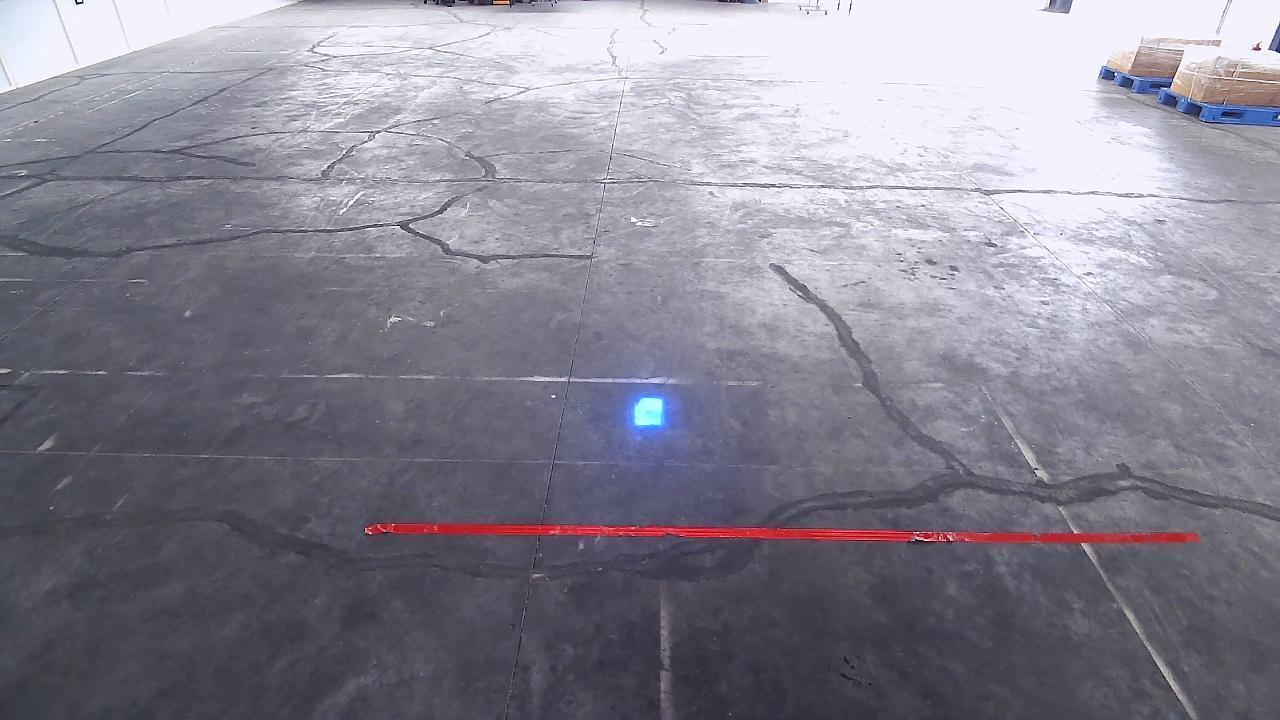red_line: (366, 525, 1201, 543)
